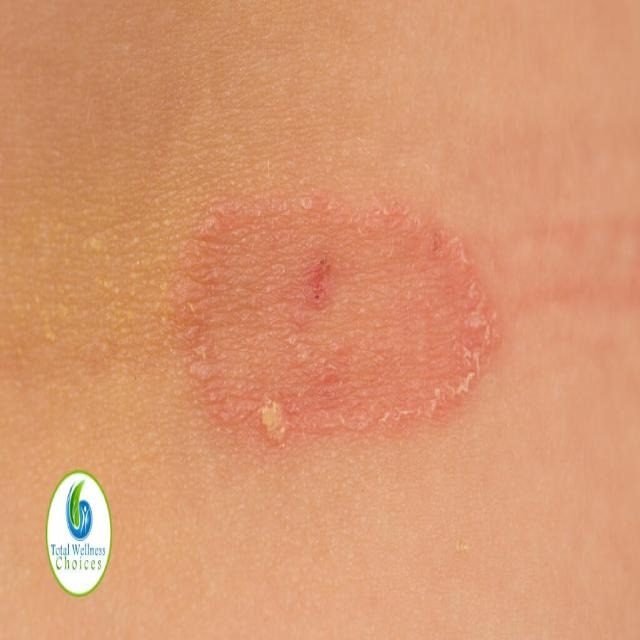Ringworm: (155, 165, 527, 483)
